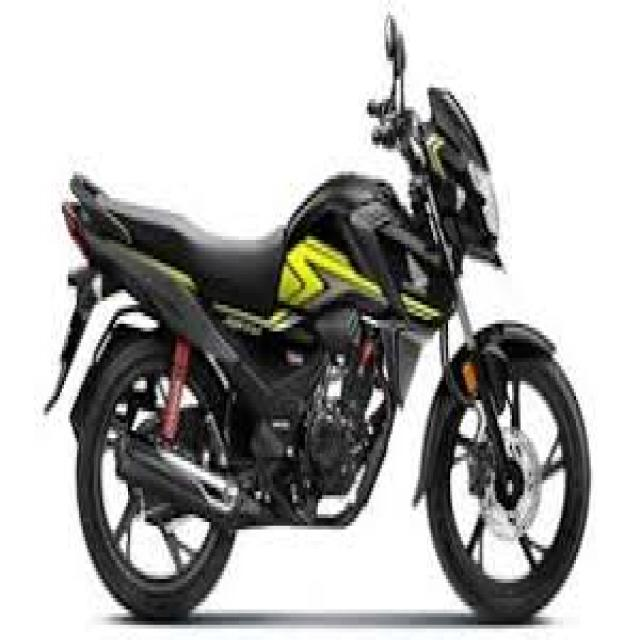bike: (36, 95, 591, 625)
